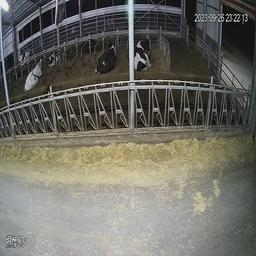cow: (85, 30, 120, 85), (134, 32, 159, 76), (23, 55, 46, 95), (47, 43, 63, 69)
